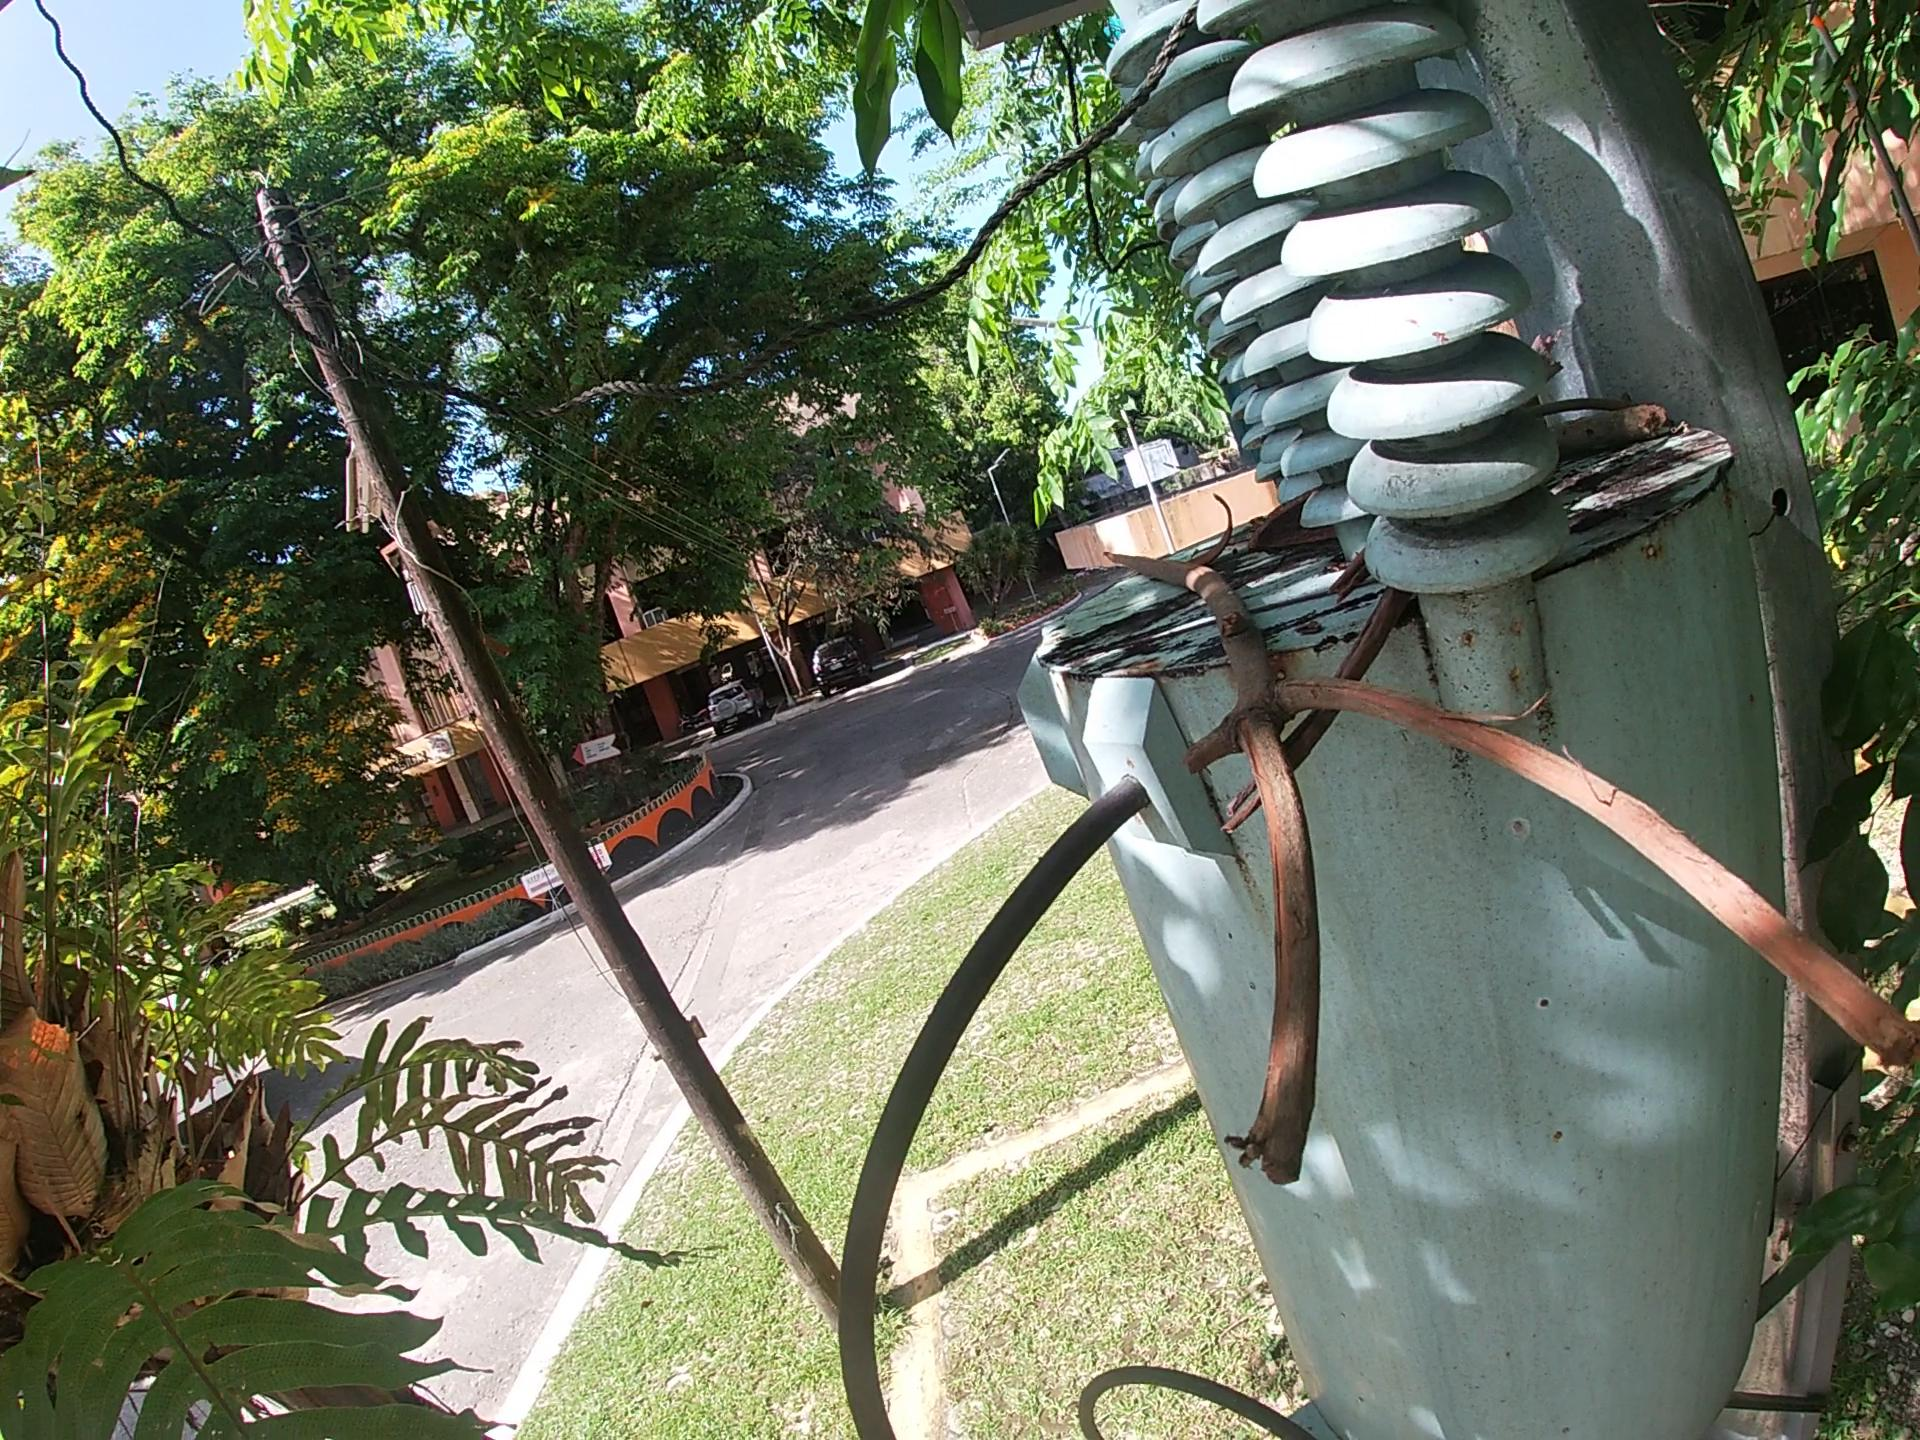mahogany fruit: (1238, 484, 1338, 563), (1191, 492, 1240, 566)
tree branch: (1089, 545, 1920, 1206), (1212, 548, 1423, 849), (1554, 393, 1681, 467)
